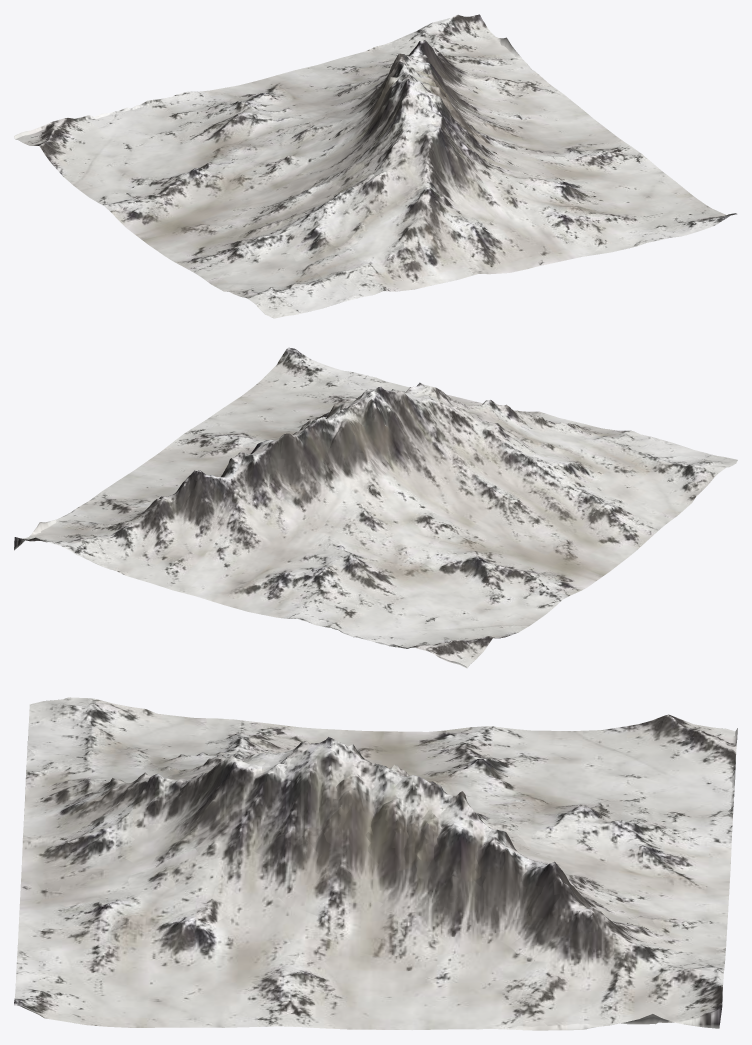
The model's file is Niflheim_Snow_Mountain_Lite.glb.
3 views of the same model, one above another, from view 1: azimuth 30°, elevation 25°; view 2: azimuth 150°, elevation 25°; view 3: azimuth 270°, elevation 25° (orthographic). The views are drawn at different scales.
Parts seen in each view (by area): view 1: Plane001; view 2: Plane001; view 3: Plane001.
Boxes of the visible parts, bbox=[...] form: Plane001: bbox=[14, 14, 737, 318]; Plane001: bbox=[14, 347, 737, 668]; Plane001: bbox=[14, 697, 737, 1030].
Size of the model in its own units: 143 by 33.42 by 143.
1 material, 1 textured.
